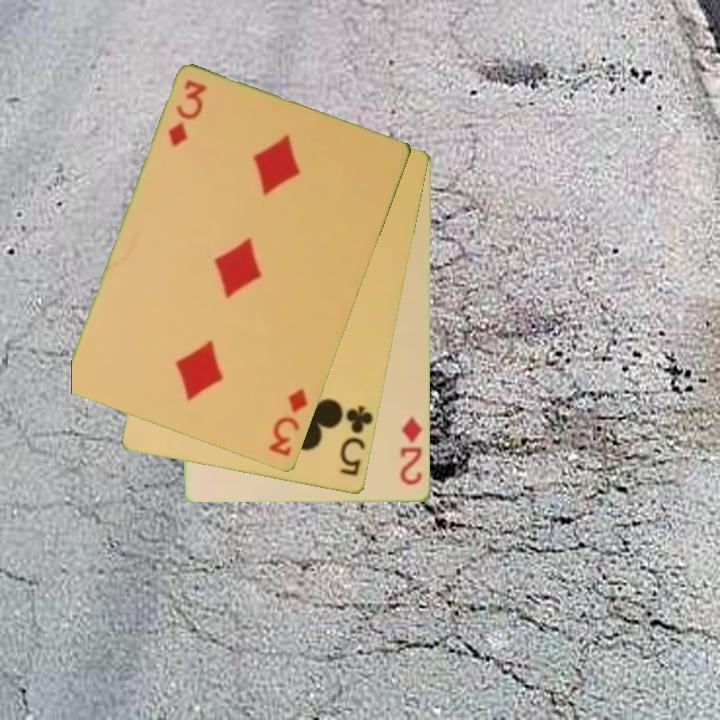2d: (397, 414, 425, 488)
3d: (265, 385, 311, 460), (165, 77, 210, 150)
5c: (337, 402, 376, 480)
